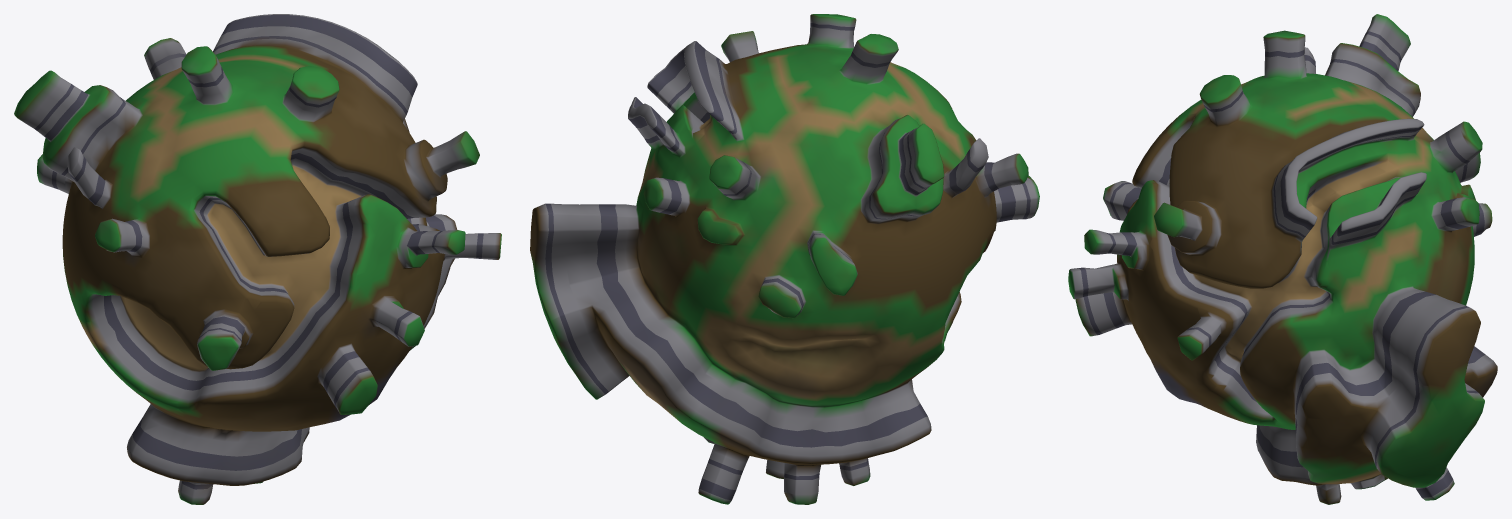
File: Planet E Render.fbx
3 renders of one model, left to right at view 1: azimuth 30°, elevation 25°; view 2: azimuth 150°, elevation 25°; view 3: azimuth 270°, elevation 25°, orthographic. The views are drawn at different scales.
Parts seen in each view (by area): view 1: Icosphere; view 2: Icosphere; view 3: Icosphere.
Part boxes in pixels (<box>): Icosphere: <box>14,14,501,504</box>; Icosphere: <box>530,14,1039,504</box>; Icosphere: <box>1068,14,1497,504</box>.
Size of the model in its own units: 7575 by 8089 by 7192.
